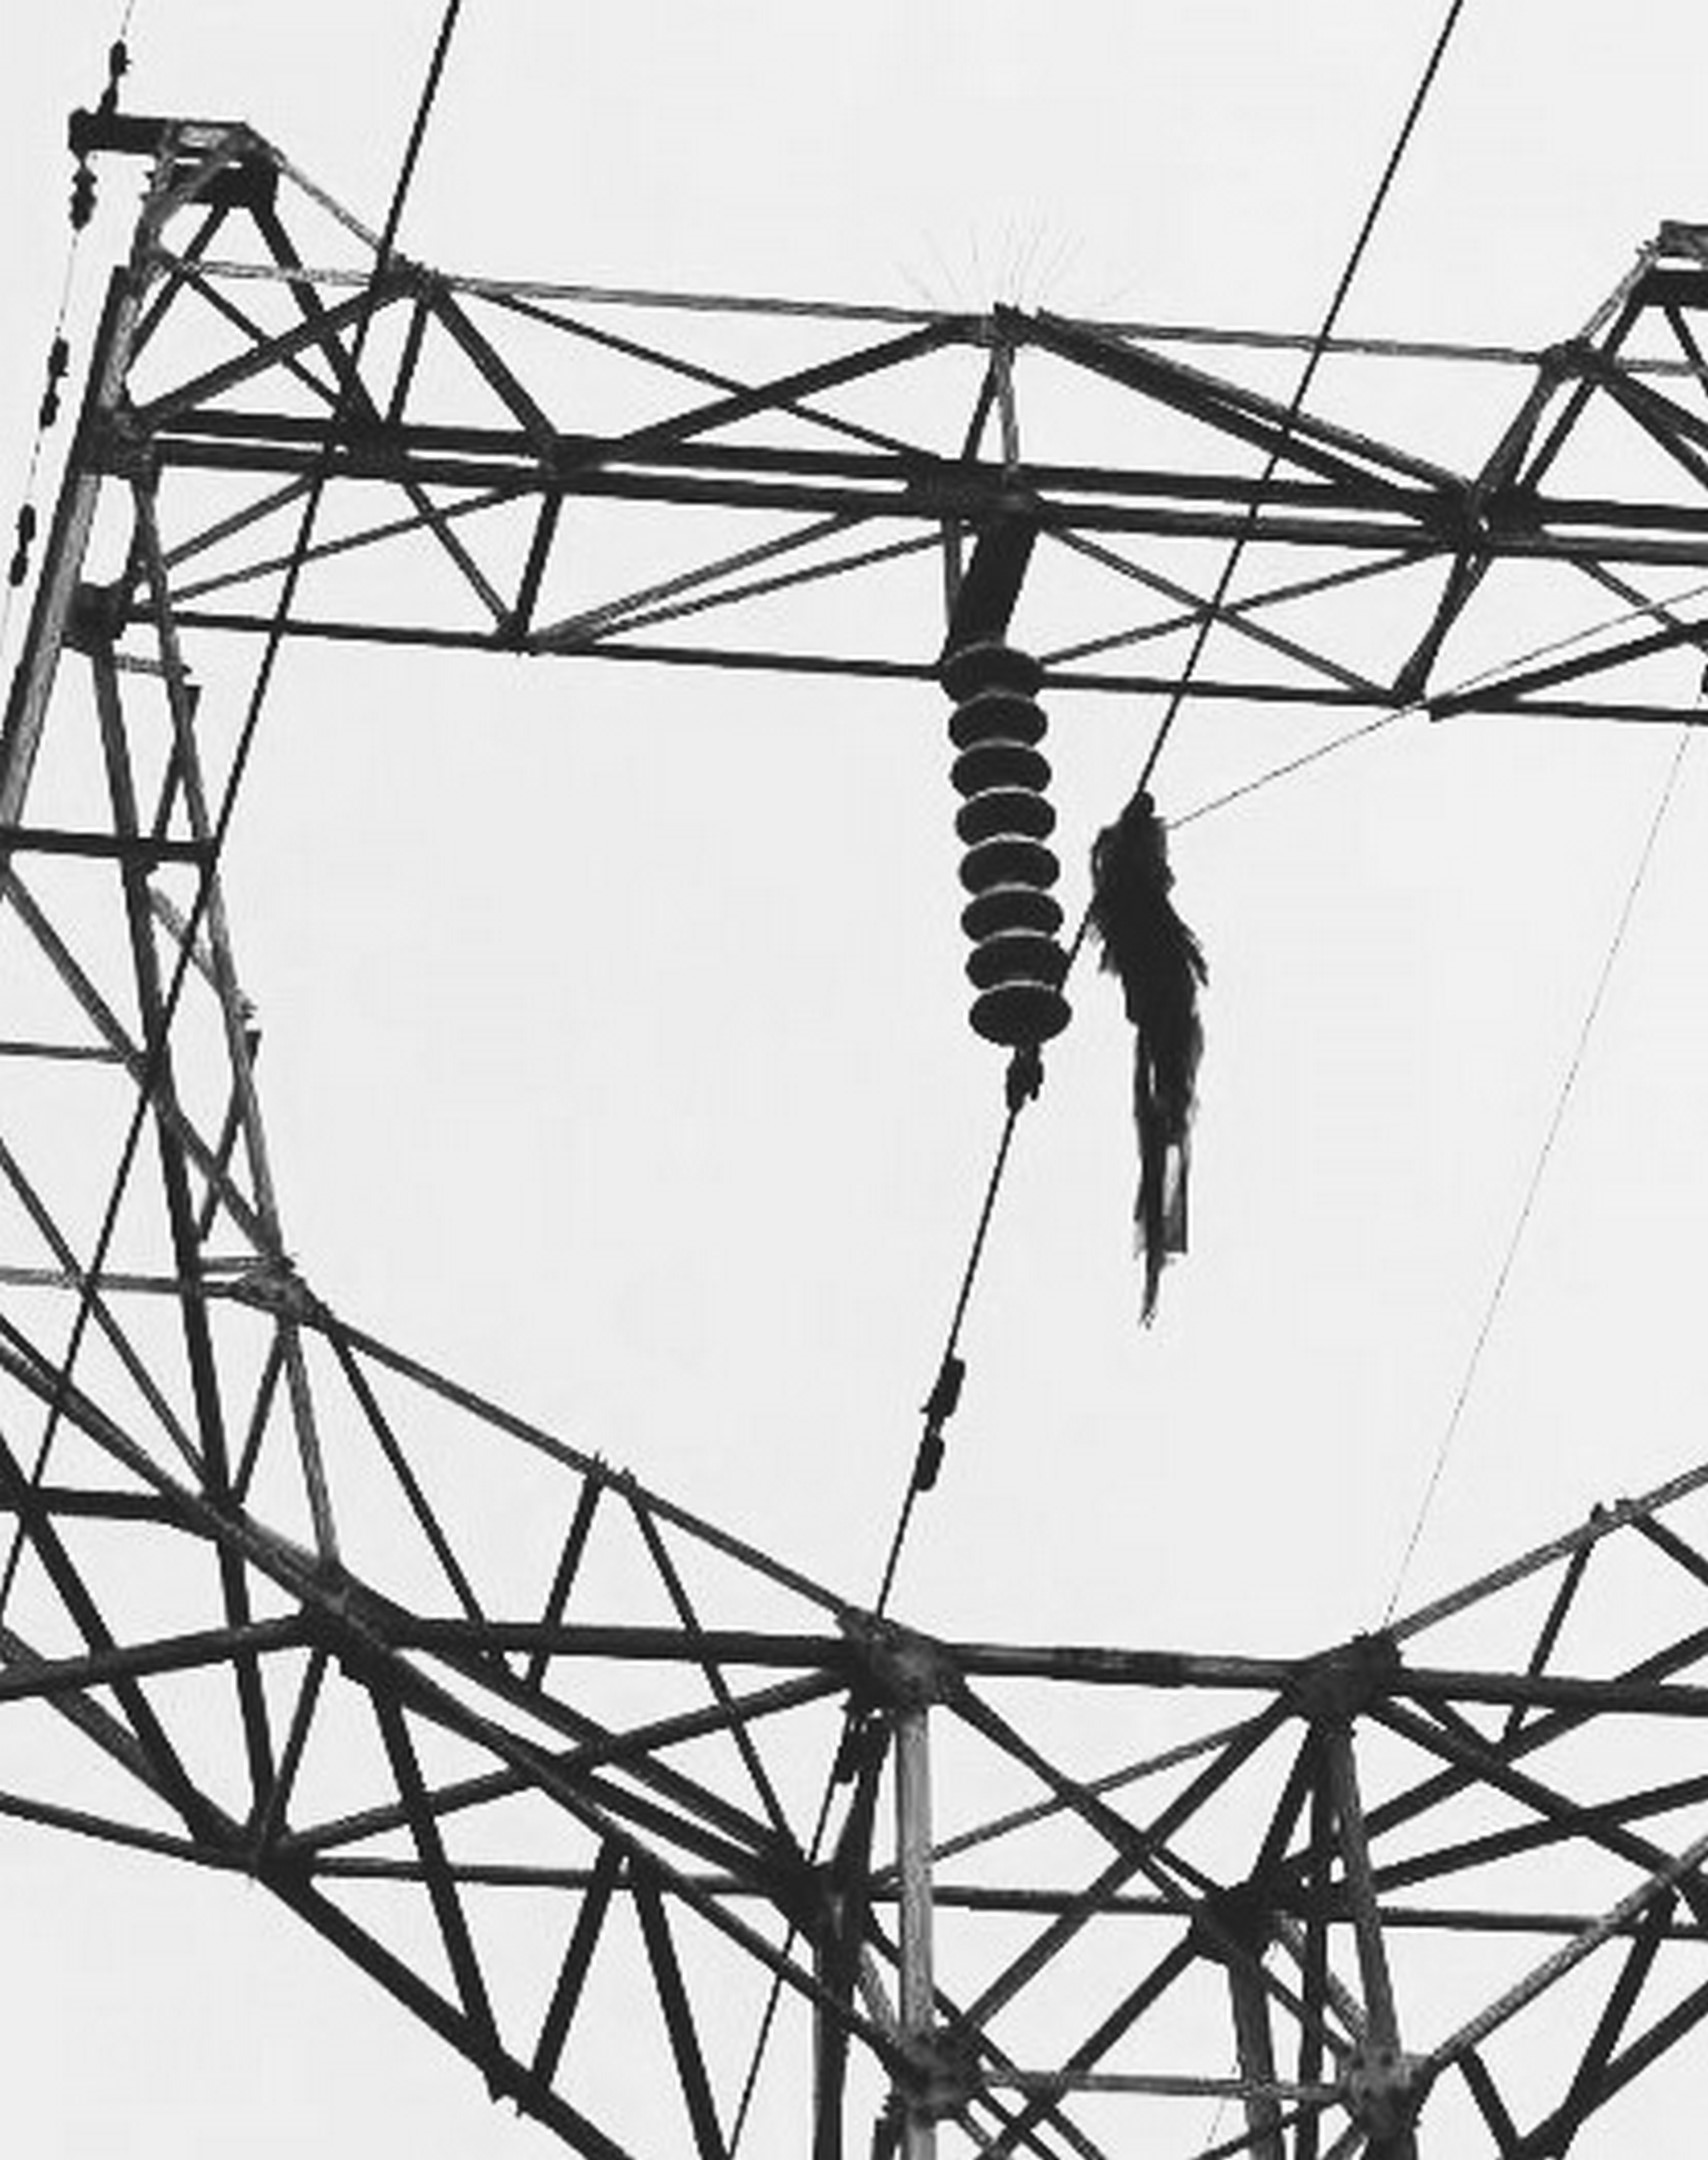wire foreign body: (1077, 775, 1256, 1322)
